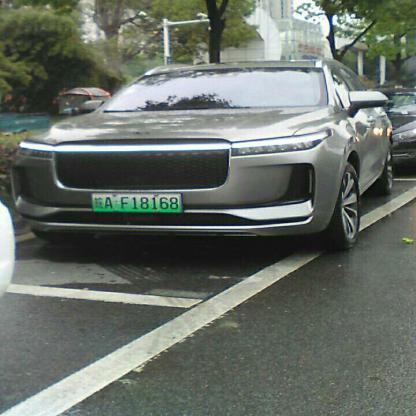lp: (88, 191, 181, 212)
